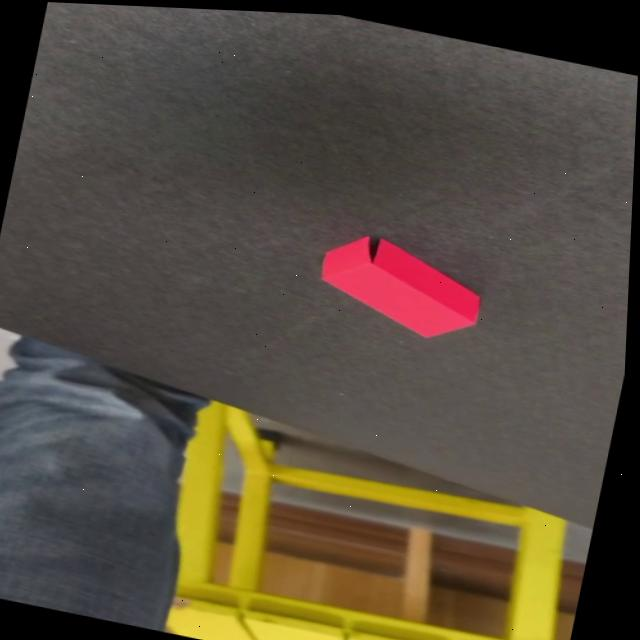red block: (307, 225, 491, 349)
